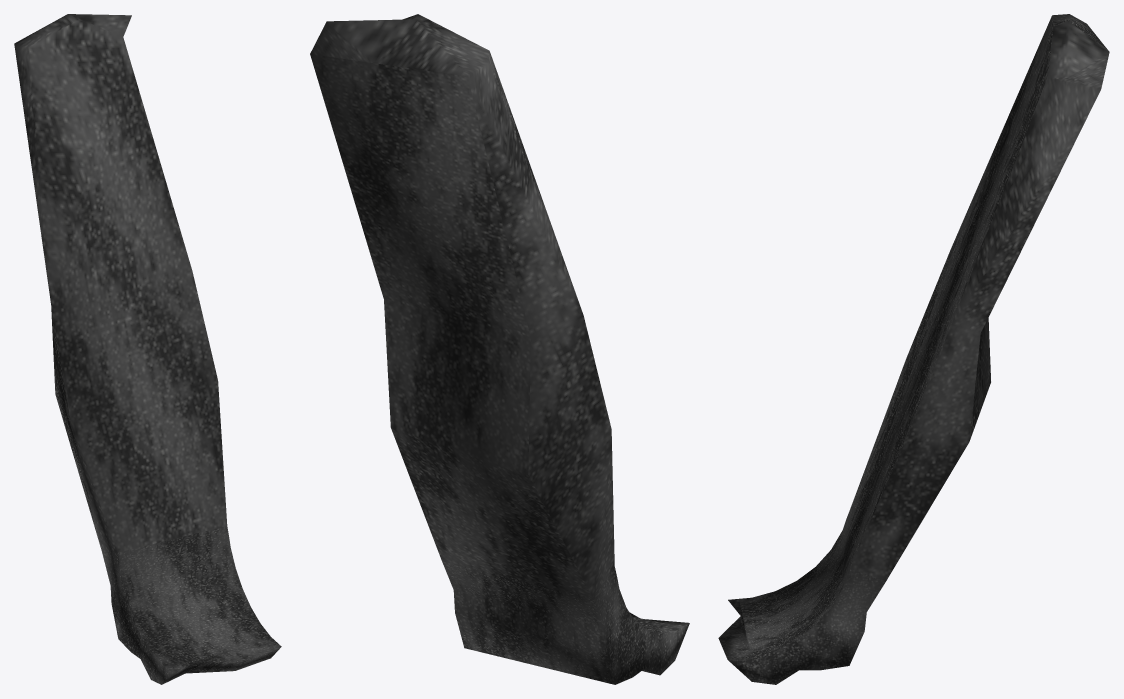
The model's file is quartercirclewramp.fbx.
3 renders of one model, left to right at view 1: azimuth 30°, elevation 25°; view 2: azimuth 150°, elevation 25°; view 3: azimuth 270°, elevation 25°, orthographic. The views are drawn at different scales.
Parts seen in each view (by area): view 1: Circle; view 2: Circle; view 3: Circle.
Part boxes in pixels (bbox=[...]): Circle: bbox=[14, 14, 281, 684]; Circle: bbox=[310, 14, 689, 684]; Circle: bbox=[718, 14, 1109, 684].
Size of the model in its own units: 1.55 by 5.58 by 3.14.
Materials: 1 (1 with a texture image).
